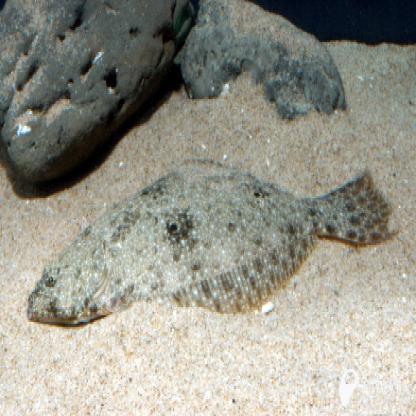flounder: (24, 151, 400, 335)
